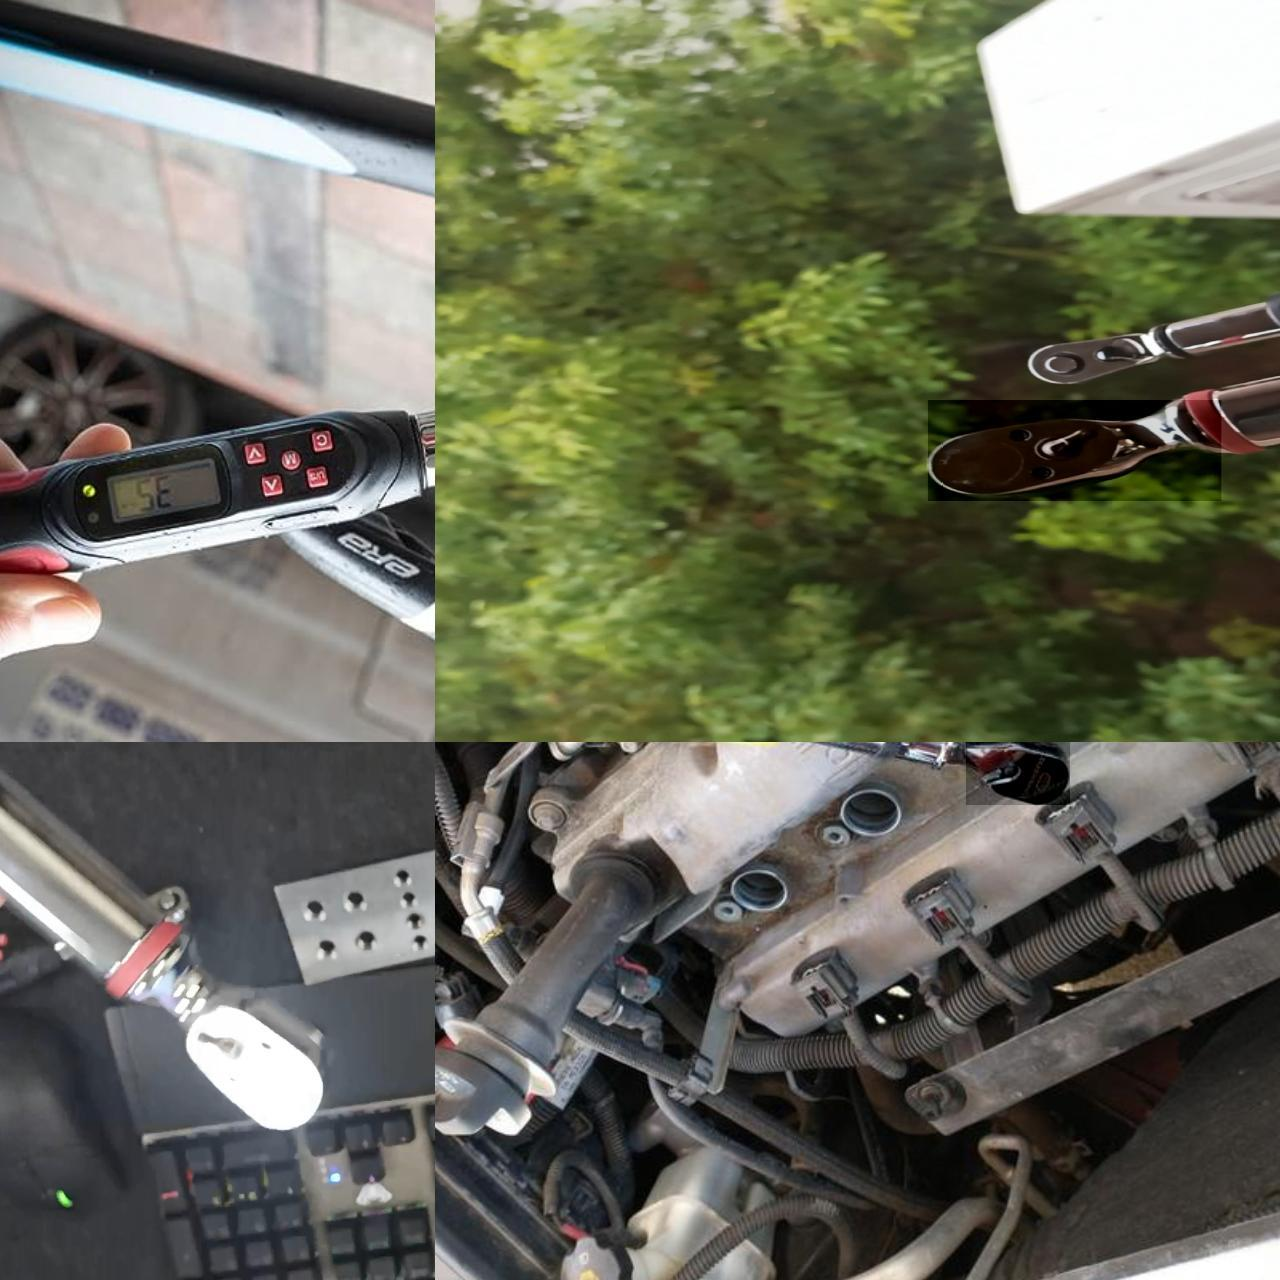Tool: (90, 936, 330, 1132), (928, 400, 1222, 501), (1020, 328, 1180, 386), (966, 742, 1070, 805)
